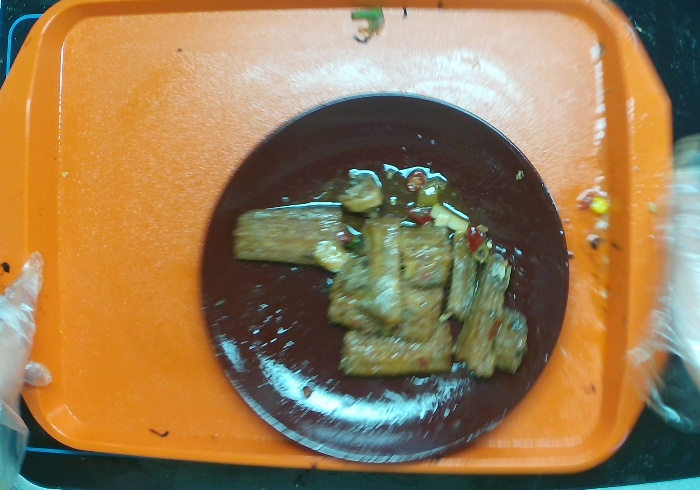HZYJPL-Ka_Fei_Yuan_Pan: (193, 83, 575, 470)
